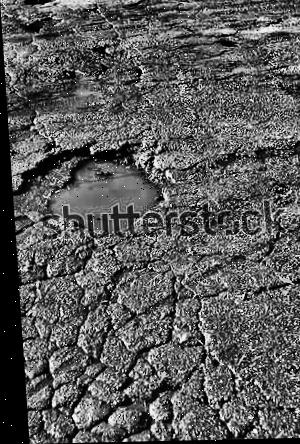pothole: (11, 134, 175, 238), (22, 15, 66, 32), (19, 0, 58, 7)
